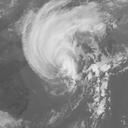cyclone: (29, 30, 89, 84)
